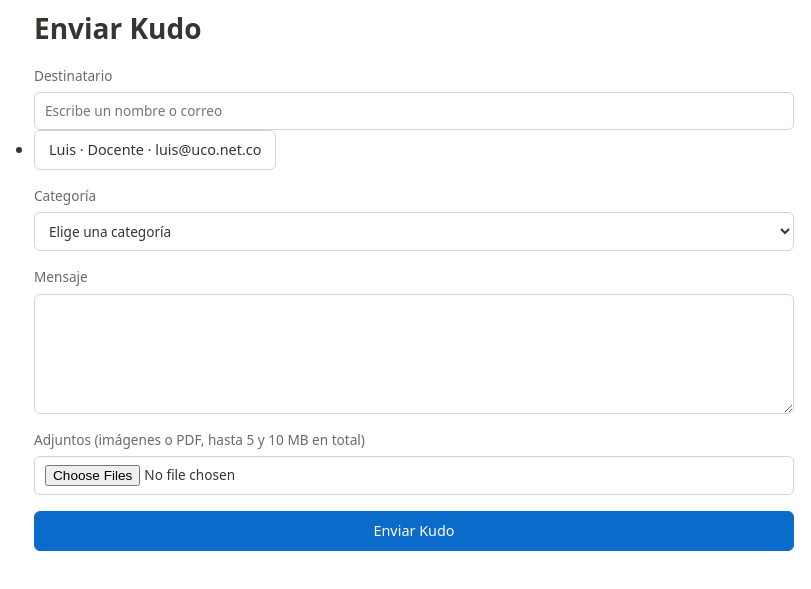
Test case: shows the server message when the API rejects the kudo
The width and height of the screenshot is (811, 589).
Step 1. Click the button "Luis · Docente · luis@uco.net.co" → (155, 150), box [34,130,276,170]
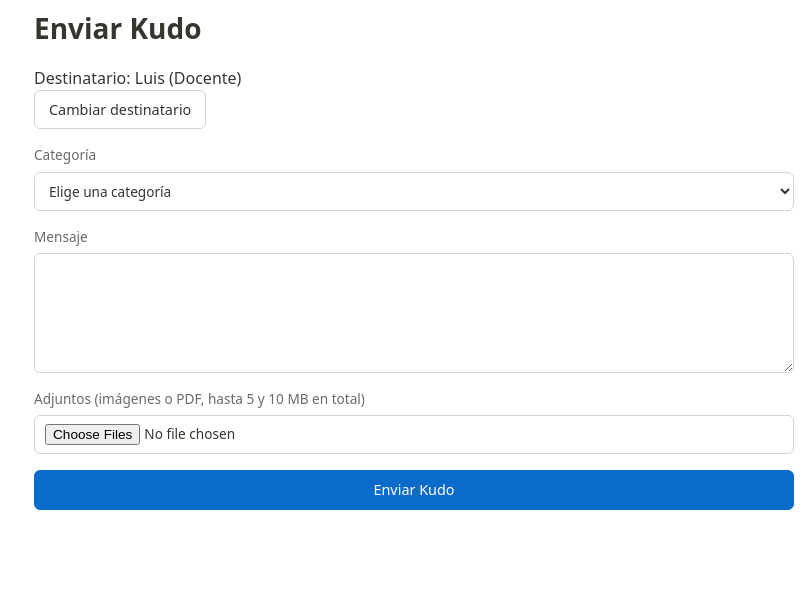
Step 2. Select "Empatía" in the dropdown labelled "Categoría" → (414, 191), box [34,172,794,211]
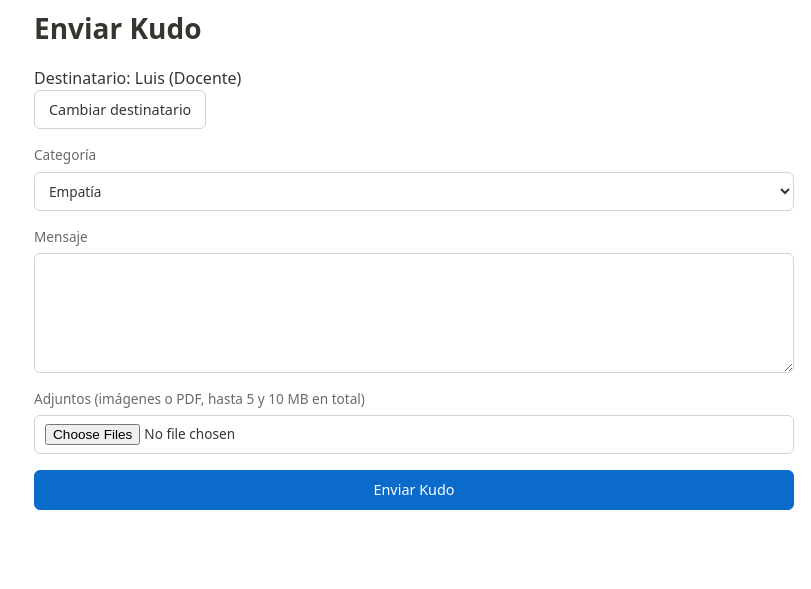
Step 3. Type "Gracias por tu ayuda" into the text box labelled "Mensaje" → (414, 313), box [34,253,794,373]
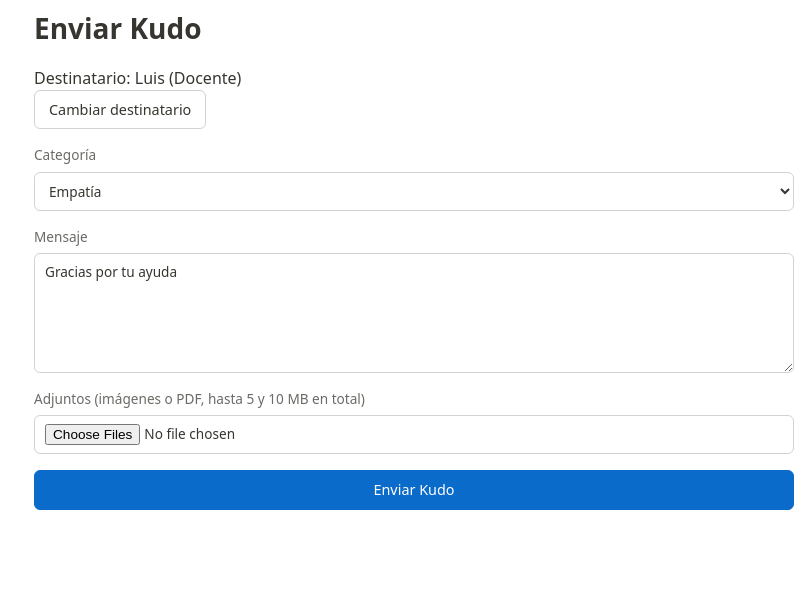
Step 4. Click the button "Enviar Kudo" → (414, 490), box [34,470,794,510]
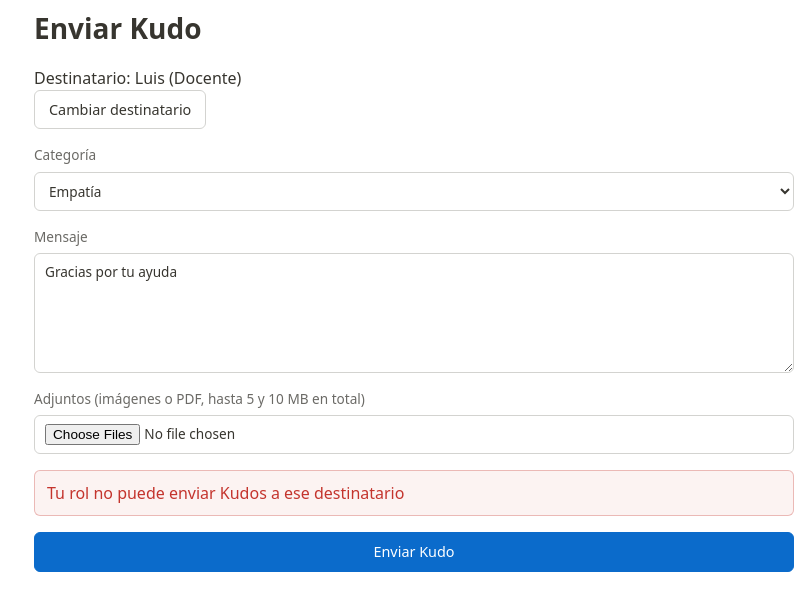
Expected: the message reads "Tu rol no puede enviar Kudos a ese destinatario", [47,482,404,504]
